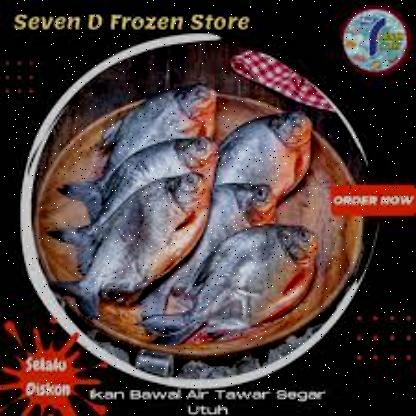ikan-pacu: (70, 170, 212, 308), (155, 226, 319, 344), (219, 109, 318, 181), (107, 83, 213, 135), (115, 131, 213, 185)
